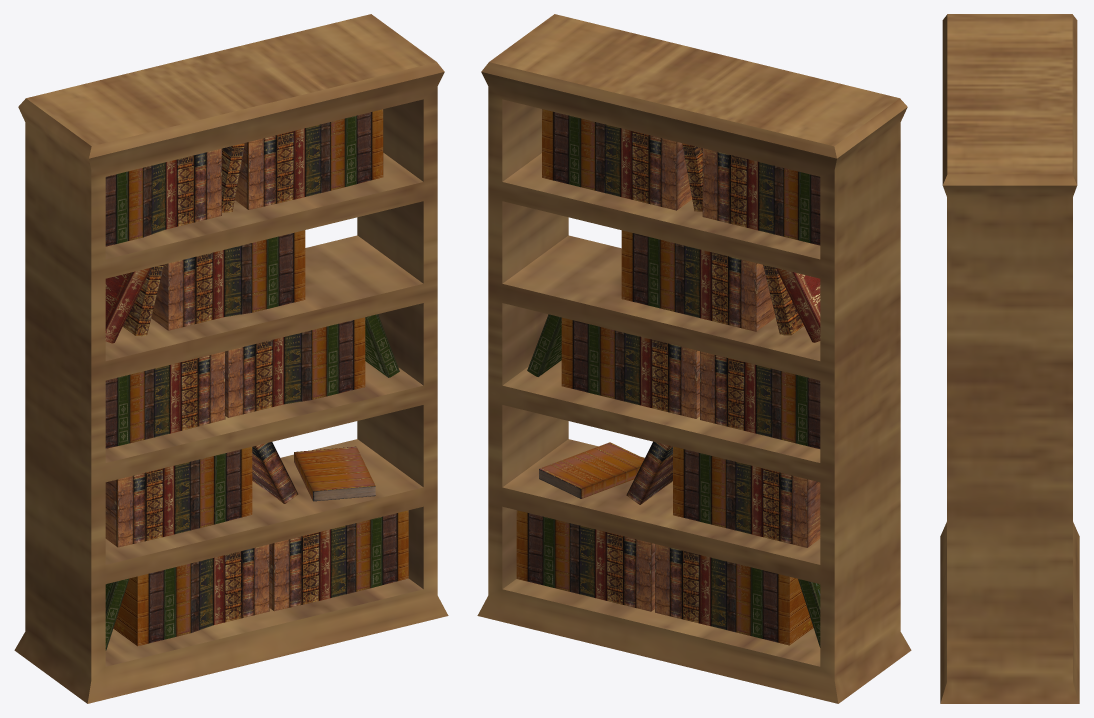
File: BookShelf.fbx
The picture shows the model from 3 angles, left to right: view 1: azimuth 30°, elevation 25°; view 2: azimuth 150°, elevation 25°; view 3: azimuth 270°, elevation 25°; orthographic projection. The views are drawn at different scales.
Parts seen in each view (by area): view 1: Cube.002, Book.011, Book.009, Book.013, Book.012, Book.010, Book.007, Book.008, Book, Book002, Book.002, Book.001 (+4 smaller); view 2: Cube.002, Book.009, Book.011, Book.013, Book.012, Book.007, Book.010, Book.008, Book, Book002, Book.002, Book.001 (+4 smaller); view 3: Cube.002.
Part boxes in pixels (x1=…): Cube.002: x1=14, y1=14, x2=448, y2=703; Book.011: x1=151, y1=230, x2=305, y2=330; Book.009: x1=113, y1=544, x2=269, y2=646; Book.013: x1=105, y1=447, x2=252, y2=547; Book.012: x1=234, y1=109, x2=383, y2=209; Book.010: x1=225, y1=317, x2=365, y2=417; Book.007: x1=269, y1=510, x2=408, y2=611; Book.008: x1=105, y1=351, x2=225, y2=448; Book: x1=105, y1=148, x2=221, y2=246; Book002: x1=294, y1=446, x2=375, y2=501; Book.002: x1=105, y1=267, x2=150, y2=343; Book.001: x1=252, y1=442, x2=298, y2=503; Cube.002: x1=477, y1=14, x2=911, y2=703; Book.009: x1=655, y1=544, x2=813, y2=645; Book.011: x1=621, y1=230, x2=775, y2=331; Book.013: x1=673, y1=446, x2=820, y2=547; Book.012: x1=542, y1=109, x2=692, y2=210; Book.007: x1=516, y1=510, x2=654, y2=611; Book.010: x1=561, y1=317, x2=699, y2=418; Book.008: x1=700, y1=351, x2=820, y2=448; Book: x1=702, y1=148, x2=820, y2=245; Book002: x1=539, y1=442, x2=644, y2=498; Book.002: x1=776, y1=268, x2=820, y2=342; Book.001: x1=626, y1=441, x2=672, y2=504; Cube.002: x1=940, y1=14, x2=1079, y2=703.
Size of the model in its own units: 62.73 by 91.82 by 22.02.
